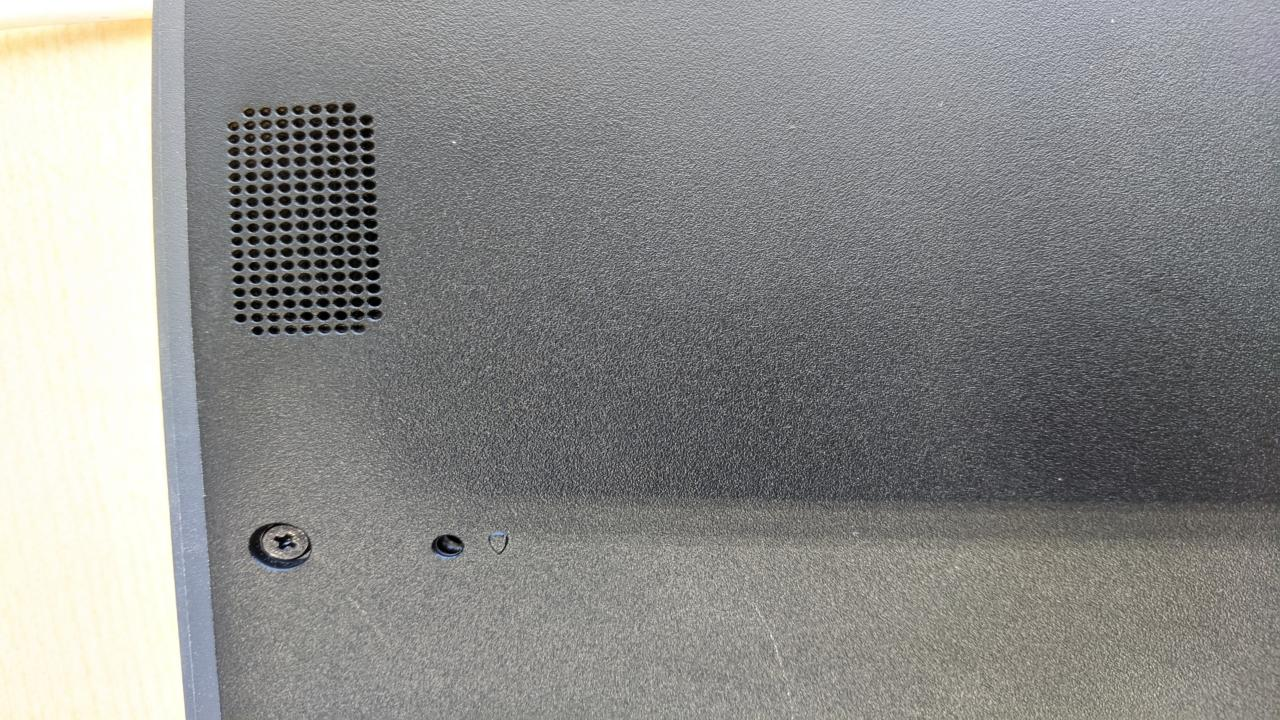CRS: (257, 524, 313, 562)
